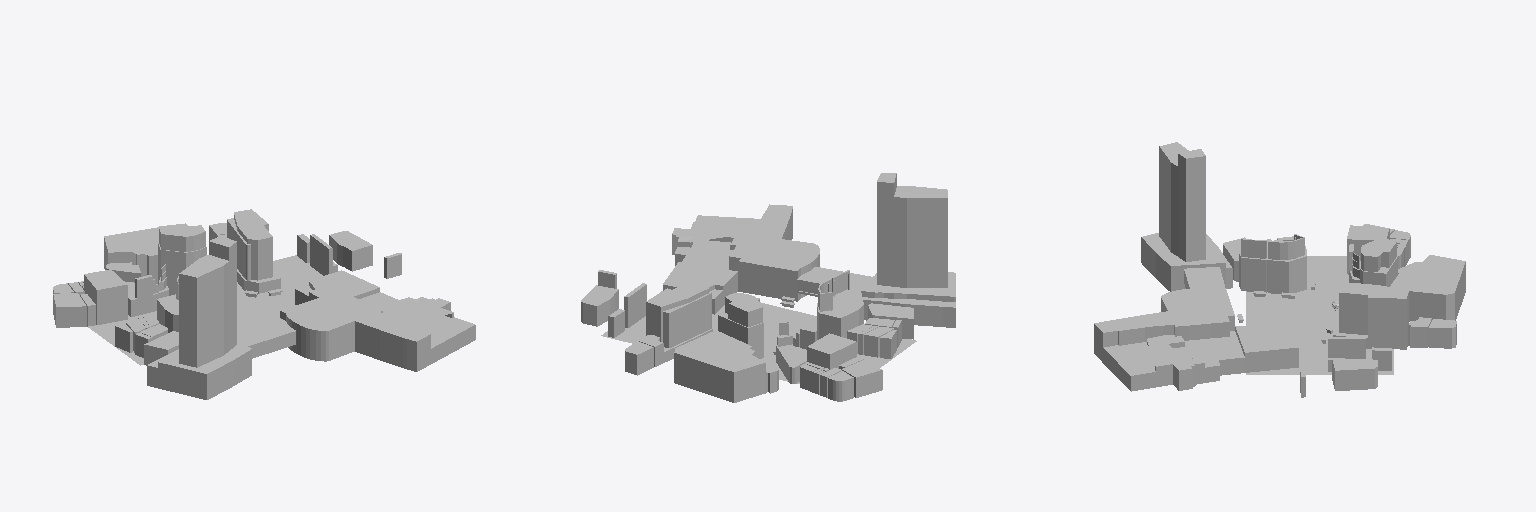
The model's file is ShibuyaTree_02.obj.
3 renders of one model, left to right at view 1: azimuth 30°, elevation 25°; view 2: azimuth 150°, elevation 25°; view 3: azimuth 270°, elevation 25°, orthographic.
Parts seen in each view (by area): view 1: Shibuya_Buildings_Areas:building, Plane; view 2: Shibuya_Buildings_Areas:building, Plane; view 3: Shibuya_Buildings_Areas:building, Plane.
Boxes of the visible parts, x1=… form: Shibuya_Buildings_Areas:building: x1=53, y1=209, x2=475, y2=399; Plane: x1=88, y1=255, x2=322, y2=365; Shibuya_Buildings_Areas:building: x1=581, y1=173, x2=955, y2=402; Plane: x1=601, y1=291, x2=916, y2=383; Shibuya_Buildings_Areas:building: x1=1094, y1=142, x2=1465, y2=397; Plane: x1=1246, y1=256, x2=1393, y2=374.
Size of the model in its own units: 320 by 126 by 327.